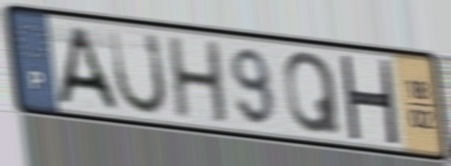9: (227, 45, 277, 128)
A: (54, 23, 121, 113)
H: (336, 51, 401, 147), (165, 34, 232, 127)
Q: (282, 49, 344, 137)
U: (106, 25, 170, 118)
